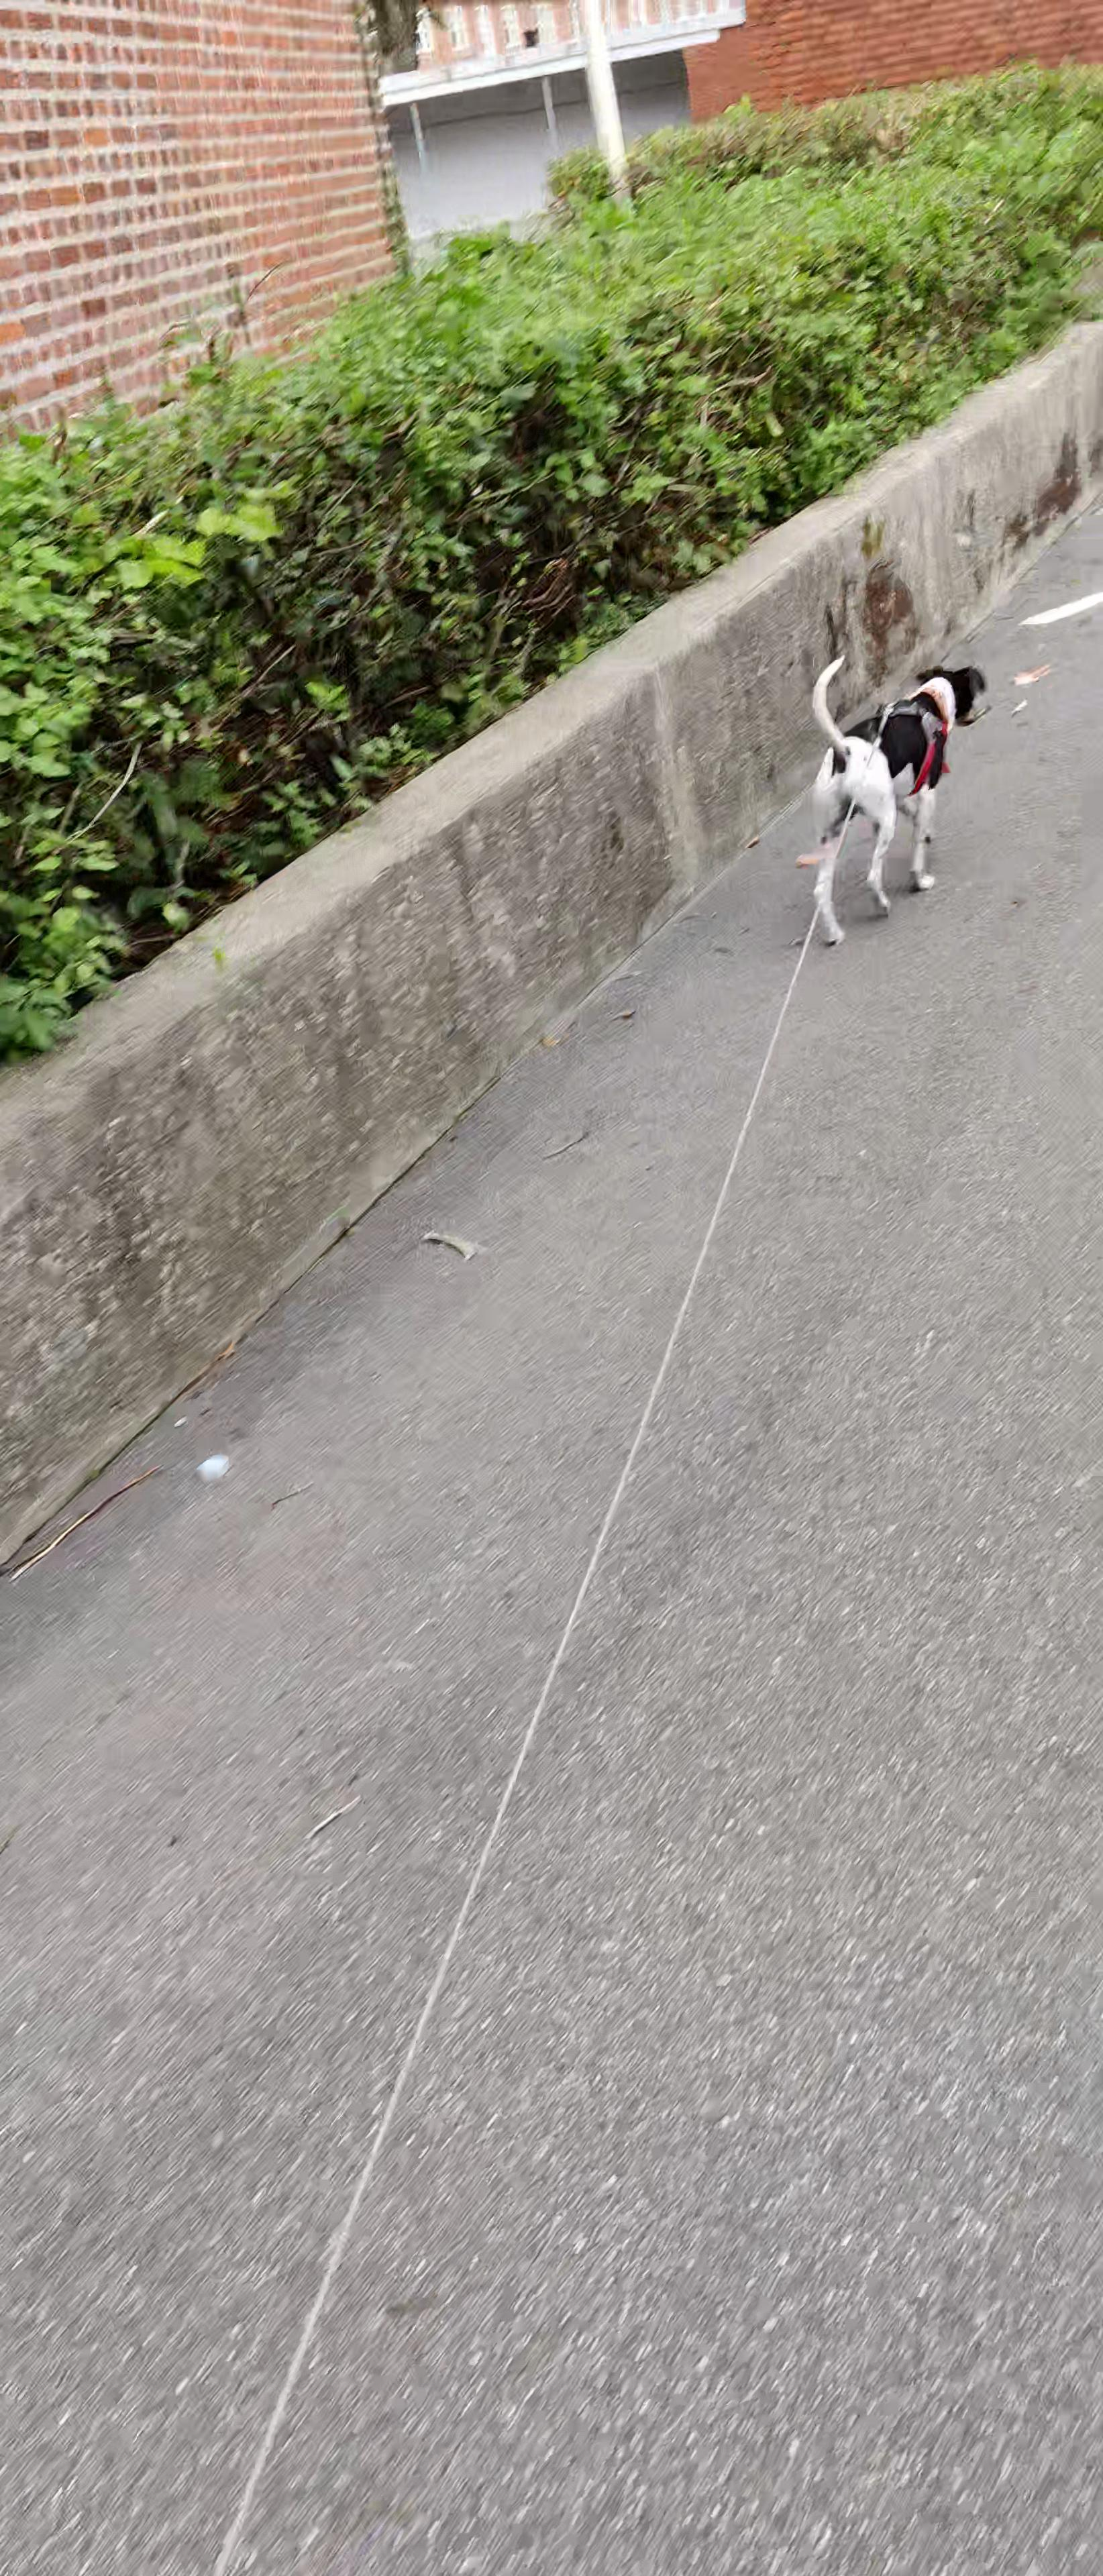Dog: (807, 637, 993, 948)
